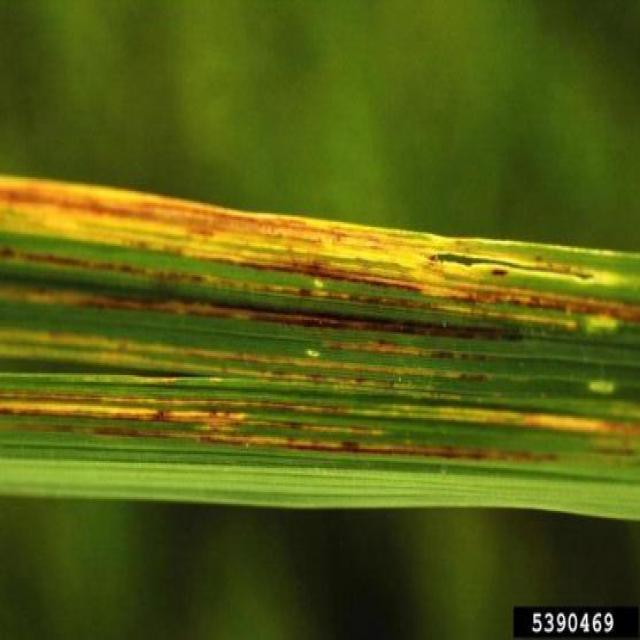blight: (32, 219, 395, 440)
